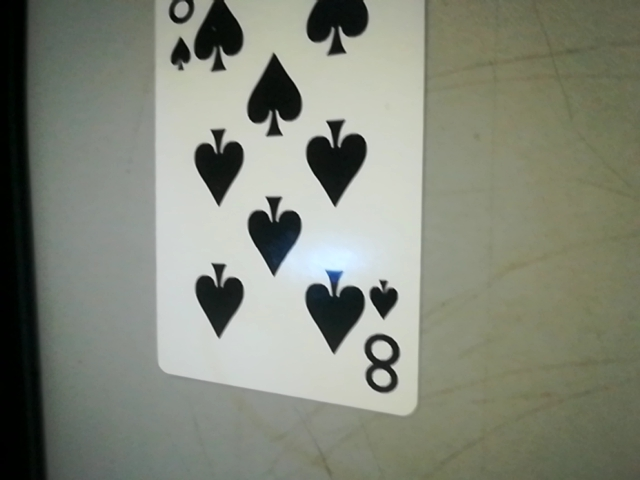ht 8: (355, 269, 416, 407)
